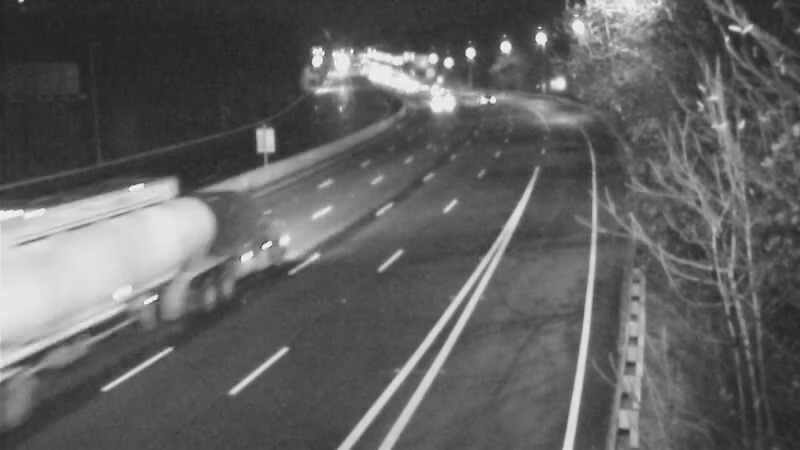vehicle: (71, 244, 151, 324), (465, 73, 515, 123), (420, 76, 470, 126)
